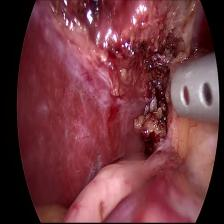Irrigator: (168, 48, 224, 130)
